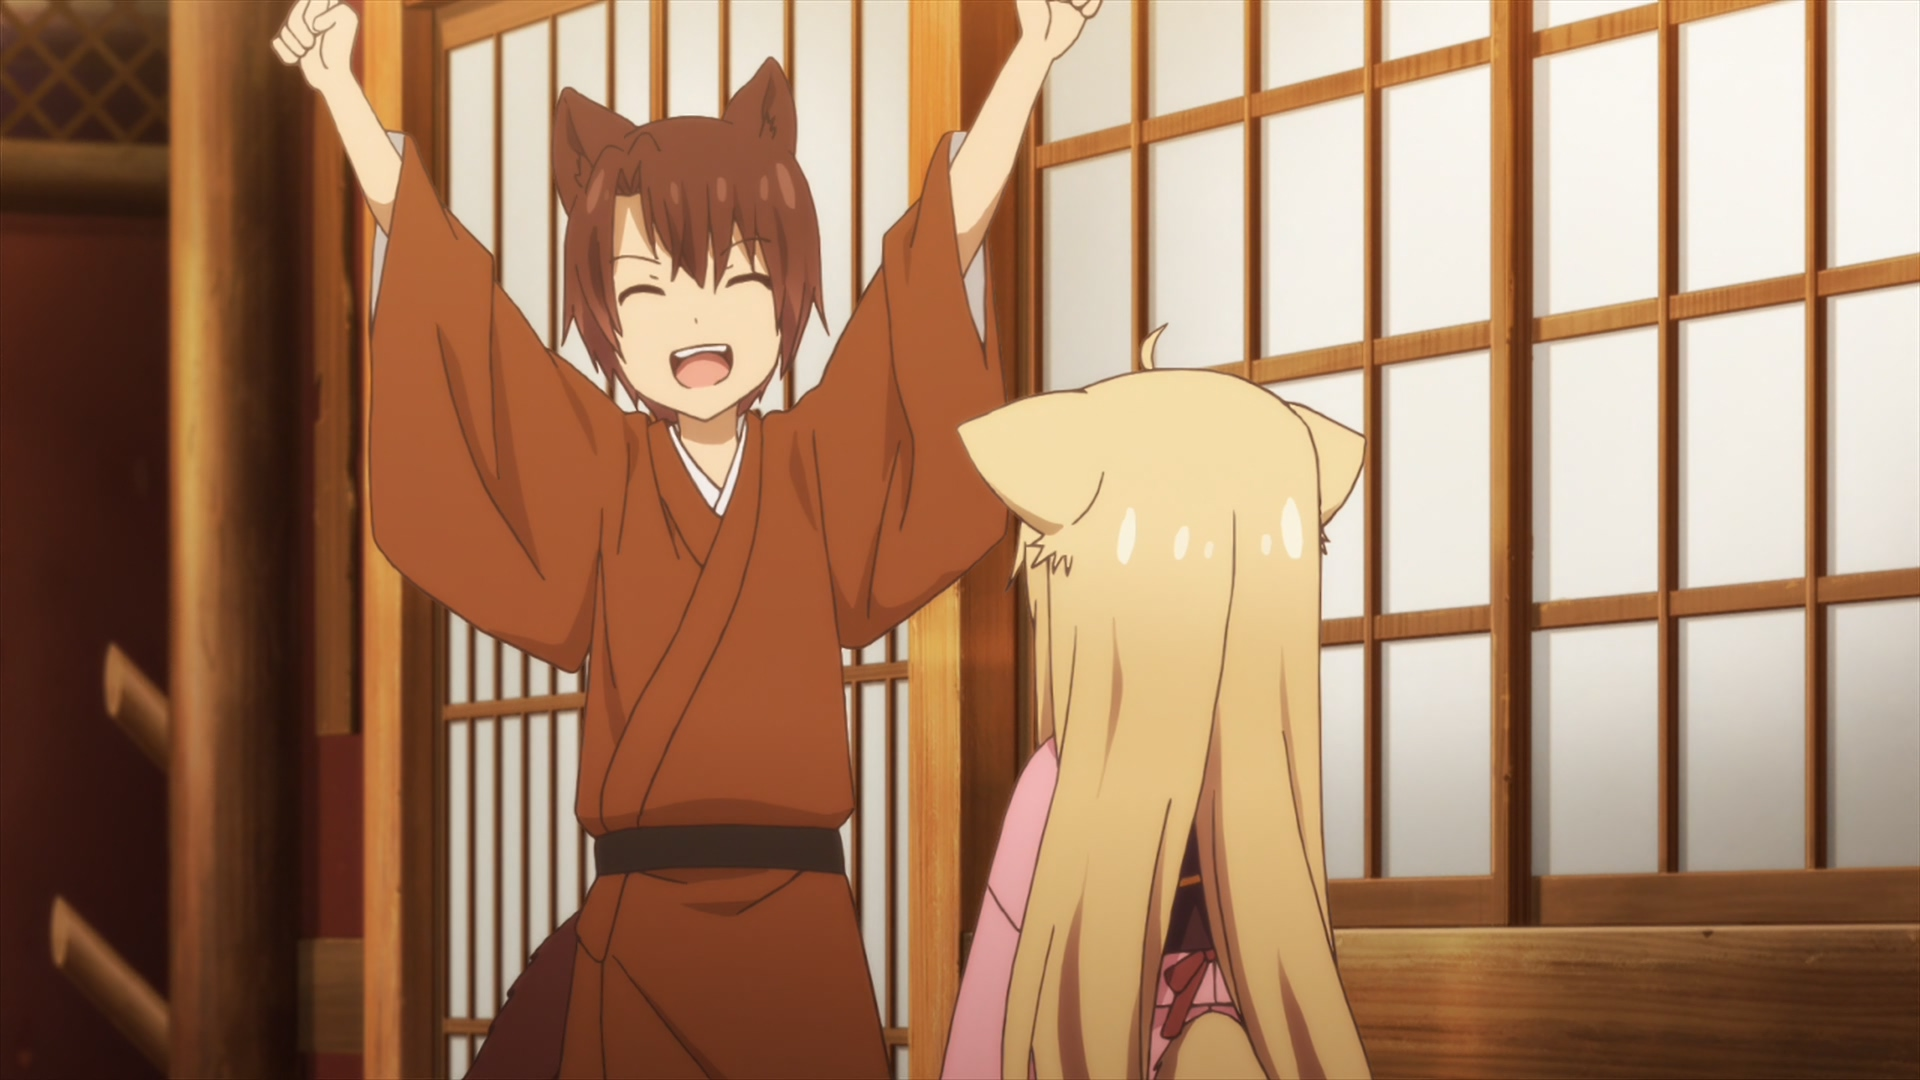枣: (270, 1, 1097, 1080)
柚: (938, 323, 1371, 1080)
